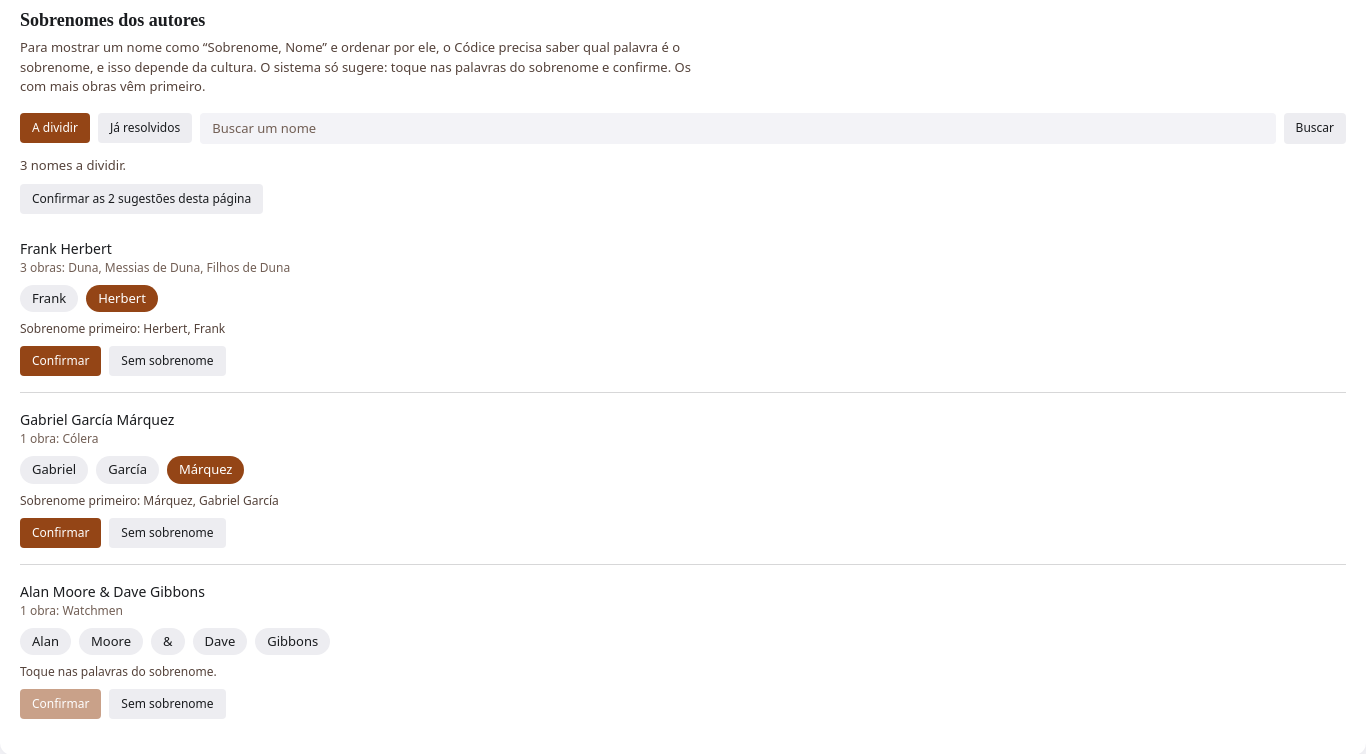
Scenario: PersonNames: the proposals of a page, at once › asks the lists again even when the server refuses one, since the ones before it were saved
Click the button "Confirmar as 2 sugestões desta página" at (142, 198), box [20, 184, 263, 214]
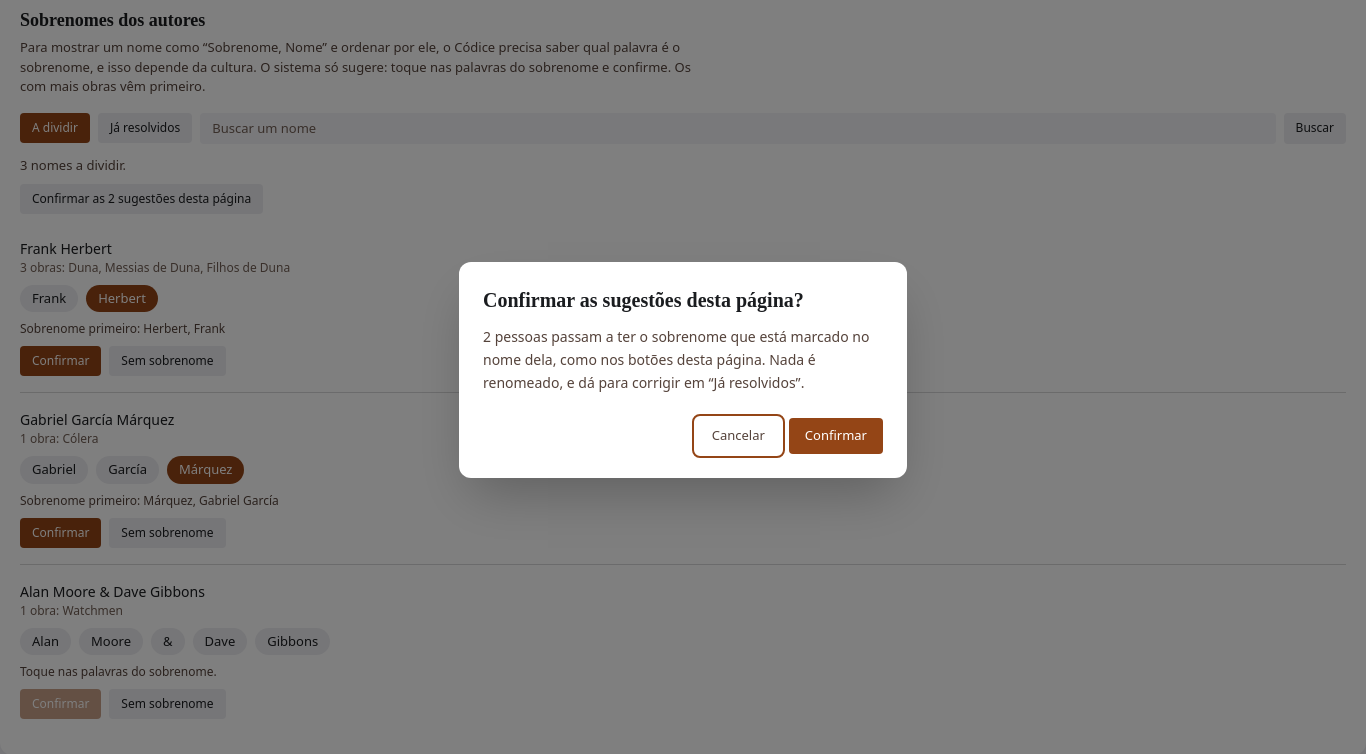
Click the button "Confirmar" at (836, 436), box [789, 418, 883, 454]
(page scrolled)
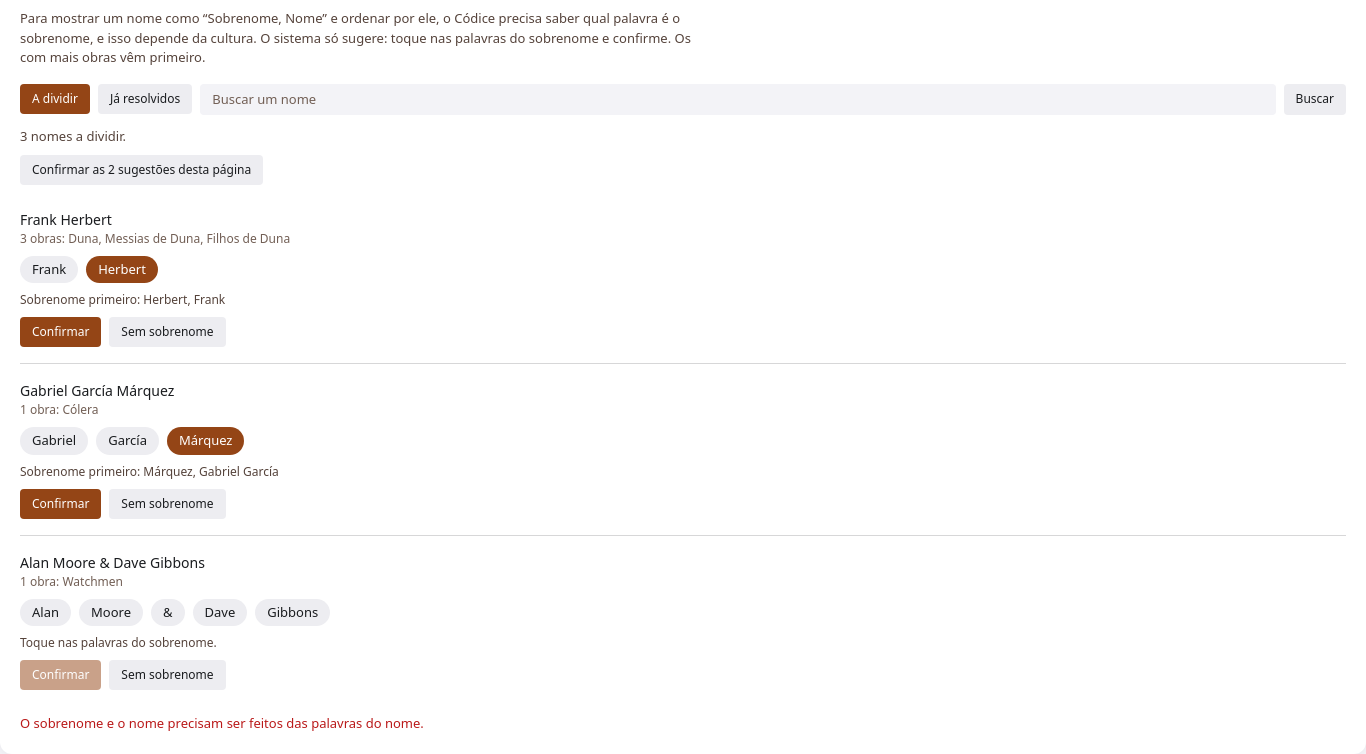
Check: the message "O sobrenome e o nome precisam ser feitos das palavras do nome." is shown, box [20, 714, 424, 732]
